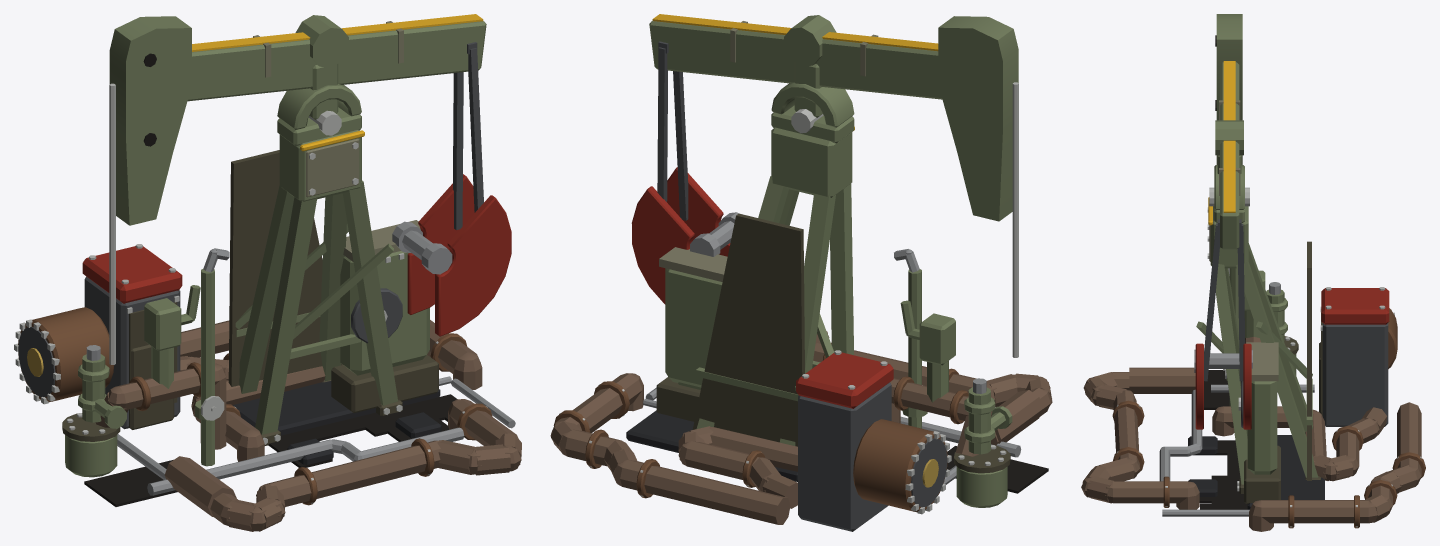
Rendered from pumpjack-west.glb.
3 renders of one model, left to right at view 1: azimuth 30°, elevation 25°; view 2: azimuth 150°, elevation 25°; view 3: azimuth 270°, elevation 25°, orthographic. The views are drawn at different scales.
Visible parts, largest first — view 1: anim_upright_still, body, anim_upright_rock_beam, anim_upright_spin_crank; view 2: anim_upright_still, body, anim_upright_rock_beam, anim_upright_spin_crank; view 3: body, anim_upright_still, anim_upright_rock_beam, anim_upright_spin_crank.
Part boxes in pixels (x1,y1,x2,y2): anim_upright_still: [62, 42, 483, 506]; body: [14, 244, 521, 531]; anim_upright_rock_beam: [109, 14, 486, 225]; anim_upright_spin_crank: [392, 174, 511, 336]; anim_upright_still: [626, 41, 1048, 507]; body: [550, 331, 1052, 531]; anim_upright_rock_beam: [649, 14, 1018, 221]; anim_upright_spin_crank: [631, 167, 738, 304]; body: [1081, 287, 1425, 531]; anim_upright_still: [1188, 165, 1324, 509]; anim_upright_rock_beam: [1215, 14, 1243, 249]; anim_upright_spin_crank: [1194, 343, 1252, 429].
Bounding box in the file's own units: 3.23 × 3.45 × 2.89.
